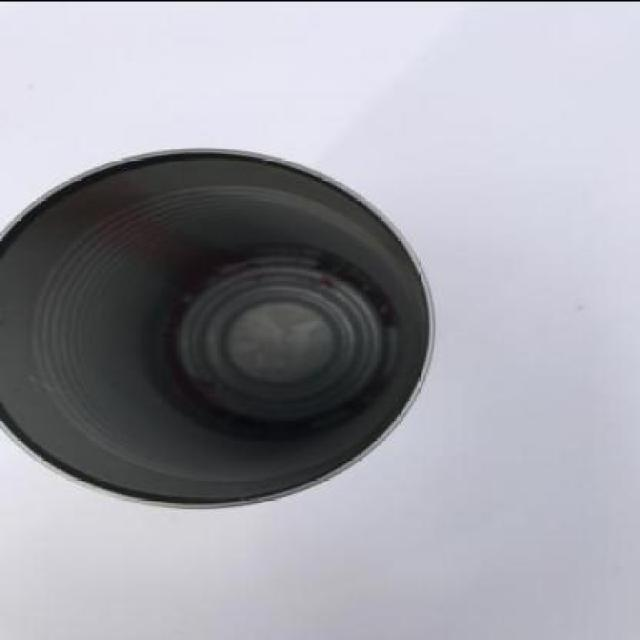METAL: (1, 143, 437, 506)
